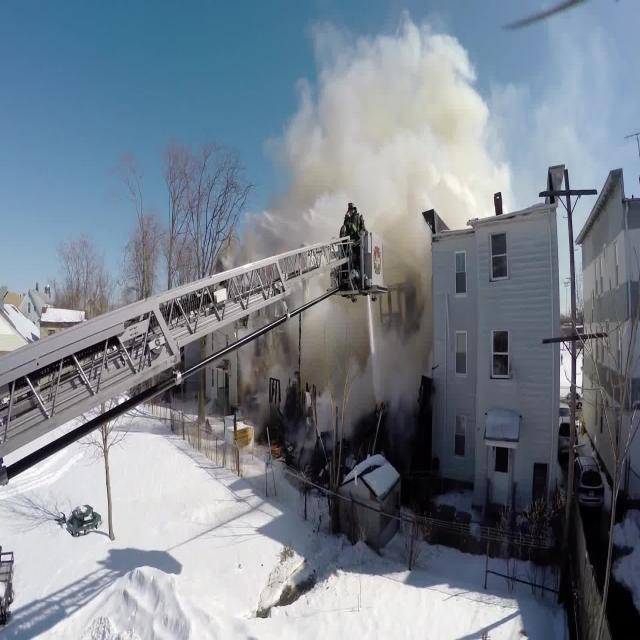Smoke: (300, 82, 484, 223), (301, 309, 420, 396)
